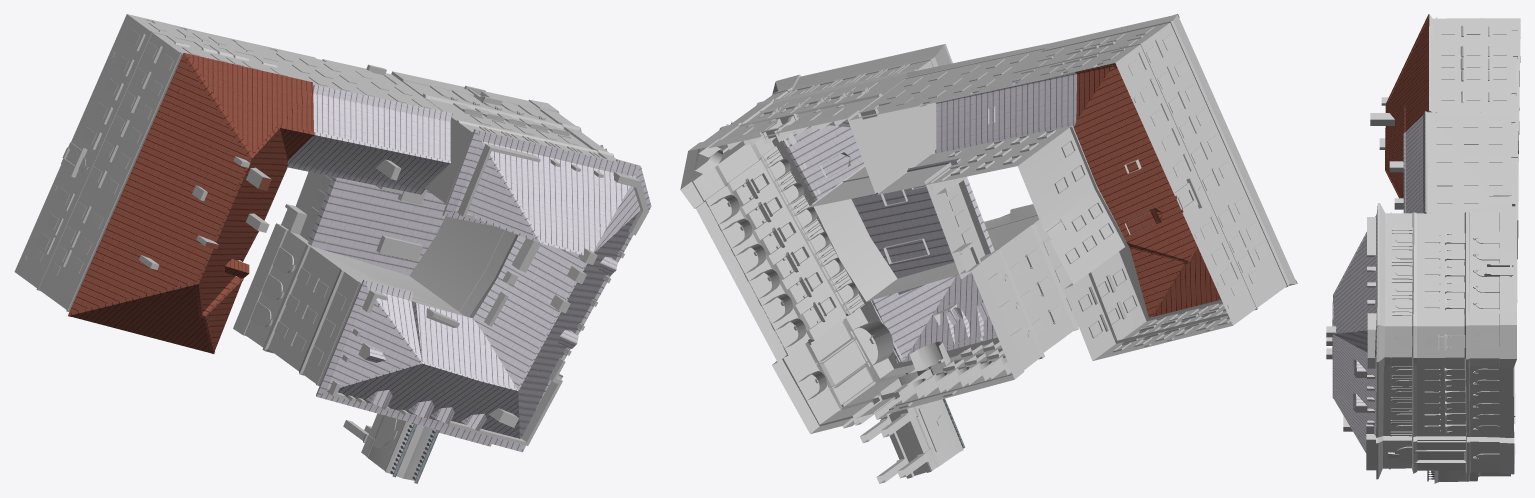
Rendered from Lai 46 obj.obj.
The picture shows the model from 3 angles, left to right: view 1: azimuth 30°, elevation 25°; view 2: azimuth 150°, elevation 25°; view 3: azimuth 270°, elevation 25°; orthographic projection. The views are drawn at different scales.
Visible parts, largest first — view 1: Lai_46; view 2: Lai_46; view 3: Lai_46.
Part boxes in pixels (x1,y1,x2,y2): Lai_46: (14,14,651,483); Lai_46: (680,14,1297,483); Lai_46: (1326,14,1520,483).
Bounding box in the file's own units: 71.05 × 60.28 × 27.94.
